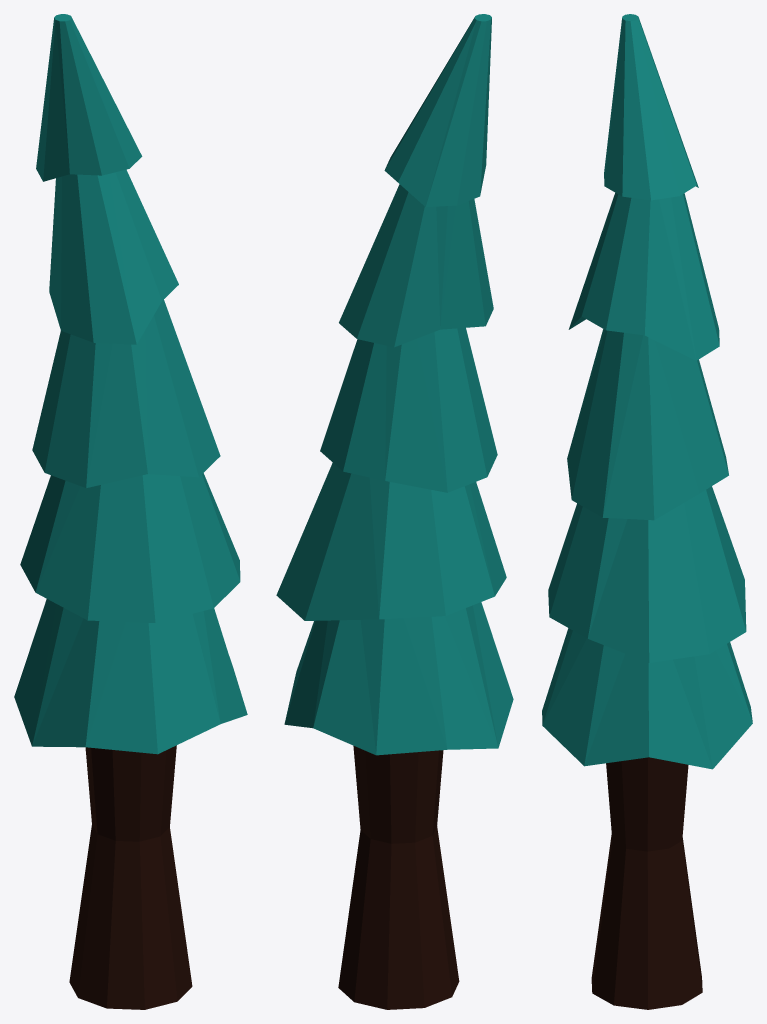
File: t4-cyan.obj
The picture shows the model from 3 angles, left to right: view 1: azimuth 30°, elevation 25°; view 2: azimuth 150°, elevation 25°; view 3: azimuth 270°, elevation 25°; orthographic projection. The views are drawn at different scales.
Parts seen in each view (by area): view 1: t4-cyan_Cylinder.014; view 2: t4-cyan_Cylinder.014; view 3: t4-cyan_Cylinder.014.
Part boxes in pixels (bbox=[...]): t4-cyan_Cylinder.014: bbox=[14, 14, 247, 1009]; t4-cyan_Cylinder.014: bbox=[276, 14, 513, 1009]; t4-cyan_Cylinder.014: bbox=[542, 14, 752, 1009].
Size of the model in its own units: 2.24 by 10.09 by 2.07.
